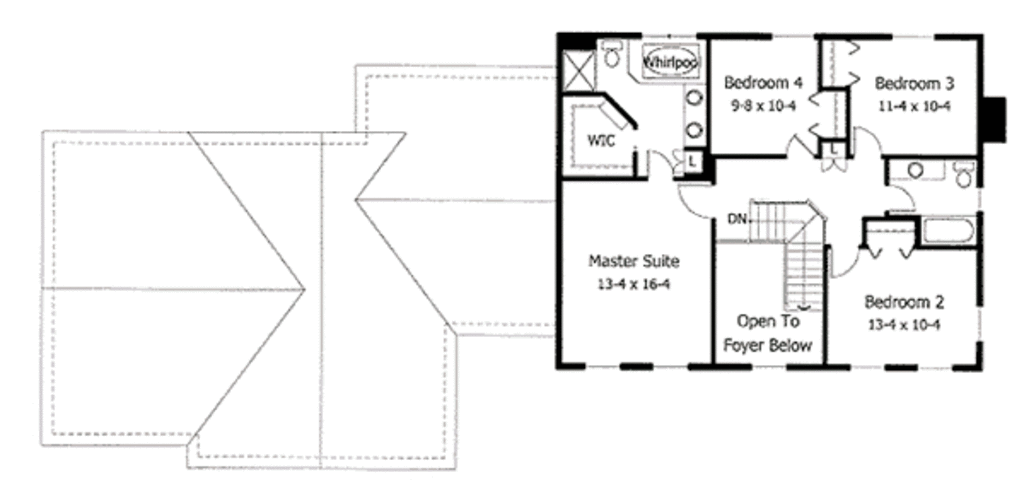door: (674, 180, 718, 220), (827, 242, 861, 282), (637, 147, 676, 178), (853, 123, 881, 157), (782, 134, 812, 158)
large_sink: (592, 40, 628, 69), (946, 156, 975, 189)
small_sink: (678, 82, 710, 149), (889, 158, 944, 184)
stairs: (748, 199, 829, 314)
tub: (627, 39, 708, 86), (918, 214, 978, 248)
windows: (572, 357, 691, 376), (849, 361, 965, 373), (763, 29, 818, 41), (890, 33, 946, 44)
